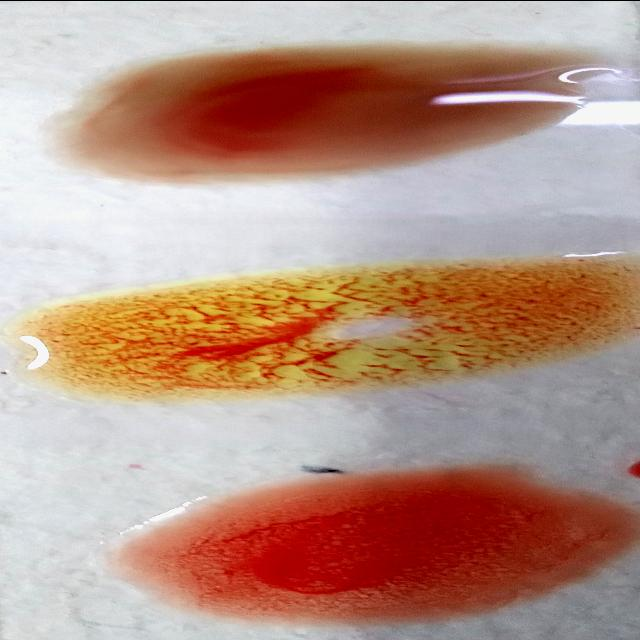B: (29, 261, 638, 403)
D: (99, 480, 640, 620)
